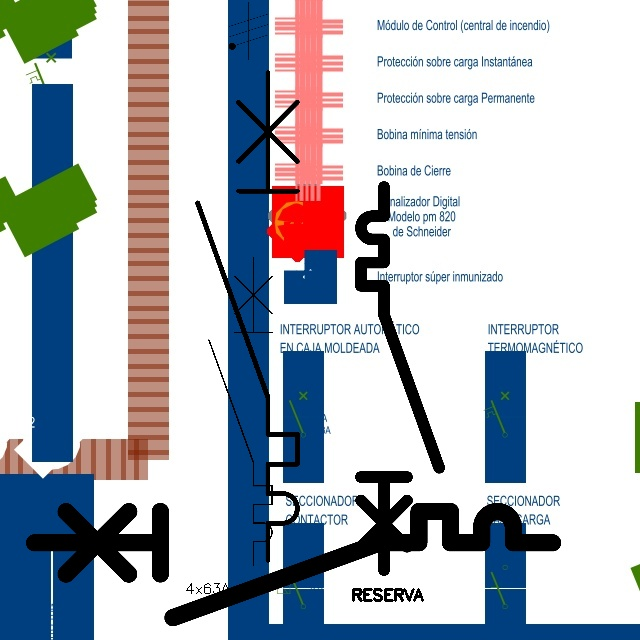interruptor_termomagnetico: (21, 498, 566, 631), (185, 60, 310, 573), (351, 177, 449, 580), (201, 250, 280, 573)
